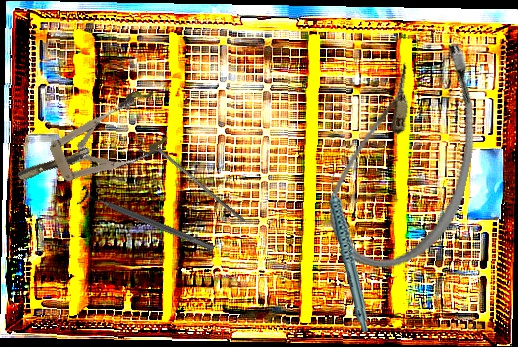Cannula: (319, 25, 495, 282)
Fixation Ring: (75, 183, 219, 260)
Handpiece: (326, 169, 372, 332)
Pusher: (154, 147, 249, 223)
Speculum: (5, 84, 176, 207)
